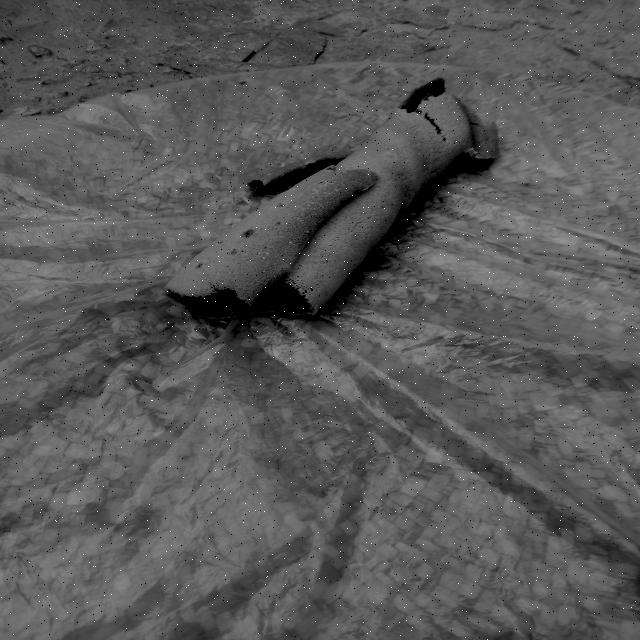injera_mold: (242, 228, 254, 241), (467, 146, 480, 157), (384, 152, 399, 161), (194, 260, 206, 271), (229, 247, 240, 257), (270, 290, 282, 299), (274, 219, 282, 228), (275, 202, 287, 208), (367, 171, 375, 180), (317, 180, 327, 186), (299, 192, 308, 198), (334, 187, 341, 193), (312, 189, 320, 194), (303, 162, 313, 166), (262, 181, 270, 186), (239, 300, 245, 306), (347, 166, 354, 171), (326, 167, 332, 172), (323, 191, 329, 196), (319, 204, 324, 210), (297, 218, 303, 222), (218, 241, 224, 245), (264, 252, 270, 256), (272, 275, 278, 279), (407, 105, 411, 111), (311, 213, 318, 216), (288, 187, 295, 190), (291, 165, 295, 170), (304, 230, 310, 233), (266, 174, 275, 176), (306, 205, 312, 208), (291, 177, 297, 180), (288, 241, 293, 244), (257, 252, 262, 255), (330, 182, 335, 185), (277, 172, 282, 175), (272, 196, 279, 198), (262, 270, 266, 273), (313, 224, 319, 226), (326, 201, 329, 205), (313, 207, 317, 210), (262, 256, 266, 259), (318, 198, 322, 201), (306, 210, 309, 213), (347, 177, 350, 180), (310, 202, 314, 204), (292, 226, 296, 228), (342, 184, 346, 186), (312, 196, 316, 198), (288, 213, 290, 216), (342, 195, 344, 198), (341, 182, 344, 184), (301, 214, 304, 216), (315, 203, 318, 205), (336, 184, 340, 185), (291, 251, 295, 252)
